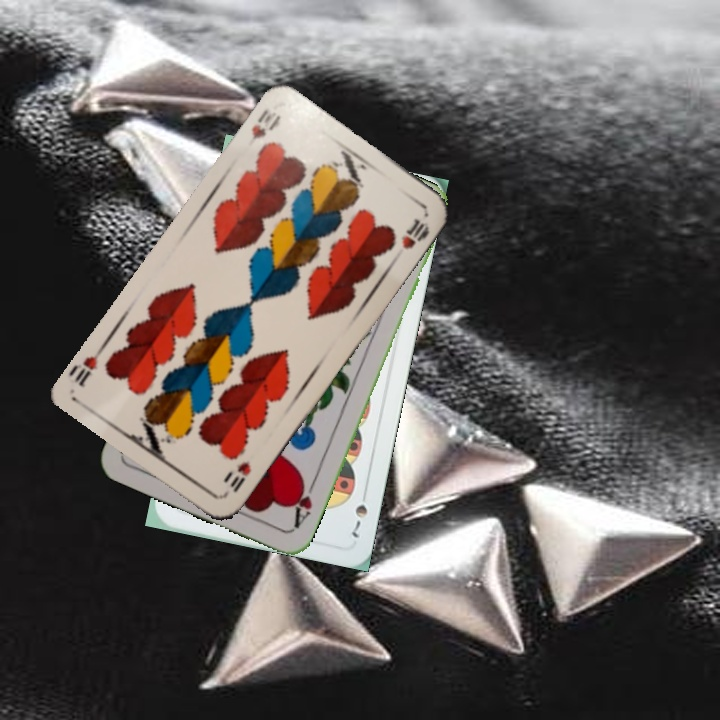H10: (243, 105, 284, 149), (220, 457, 254, 498)
HA: (288, 475, 319, 531)
S7: (347, 484, 371, 541)
